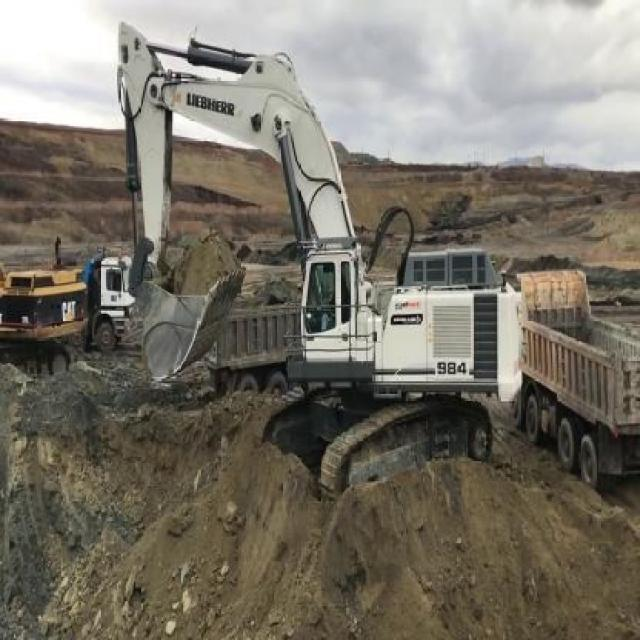Dump Truck: (513, 251, 639, 506), (205, 293, 301, 396), (87, 247, 133, 356)
Excavator: (107, 19, 519, 504)
